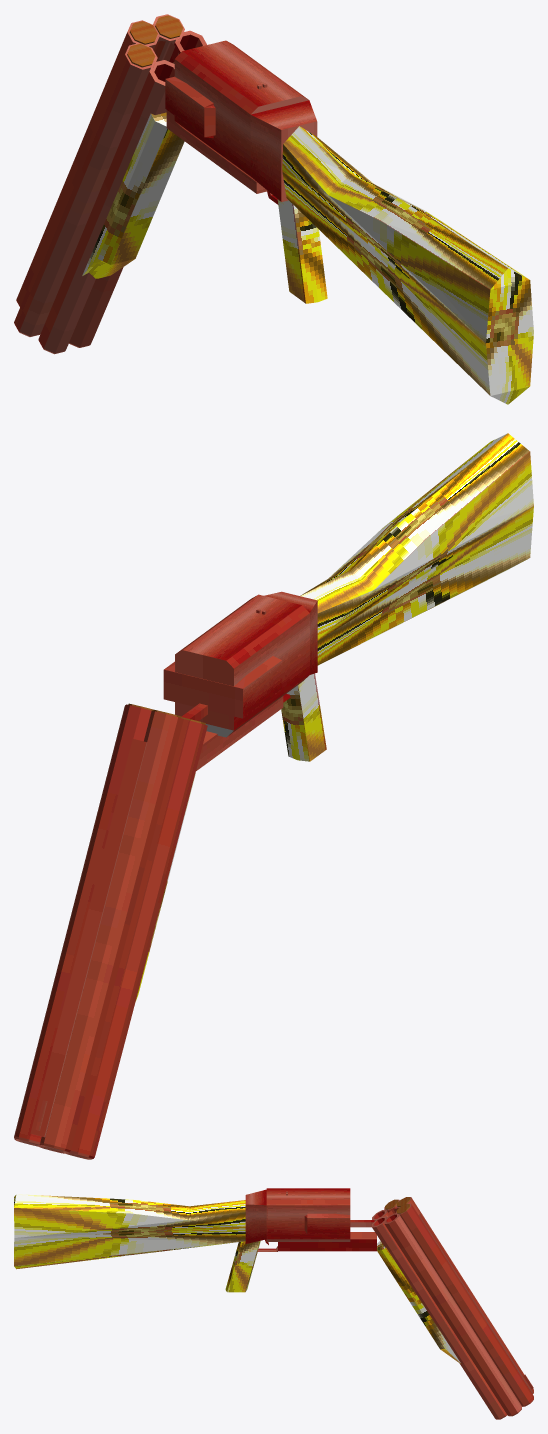
The model's file is six_barrels_shotgun_reloading_3.obj.
3 renders of one model, top to bottom at view 1: azimuth 30°, elevation 25°; view 2: azimuth 150°, elevation 25°; view 3: azimuth 270°, elevation 25°, orthographic. The views are drawn at different scales.
Visible parts, largest first — view 1: Torus.009_Torus.008, Torus.000, Torus.001, Torus.003, Torus.002; view 2: Torus.009_Torus.008, Torus.000; view 3: Torus.009_Torus.008, Torus.000.
Part boxes in pixels (x1=…): Torus.009_Torus.008: x1=165, y1=40, x2=533, y2=404; Torus.000: x1=14, y1=14, x2=206, y2=354; Torus.001: x1=155, y1=15, x2=183, y2=38; Torus.003: x1=127, y1=43, x2=155, y2=67; Torus.002: x1=129, y1=21, x2=157, y2=44; Torus.009_Torus.008: x1=163, y1=433, x2=533, y2=770; Torus.000: x1=14, y1=704, x2=207, y2=1159; Torus.009_Torus.008: x1=14, y1=1188, x2=376, y2=1292; Torus.000: x1=372, y1=1197, x2=533, y2=1419.
Size of the model in its own units: 0.6336 by 3.09 by 6.56.
